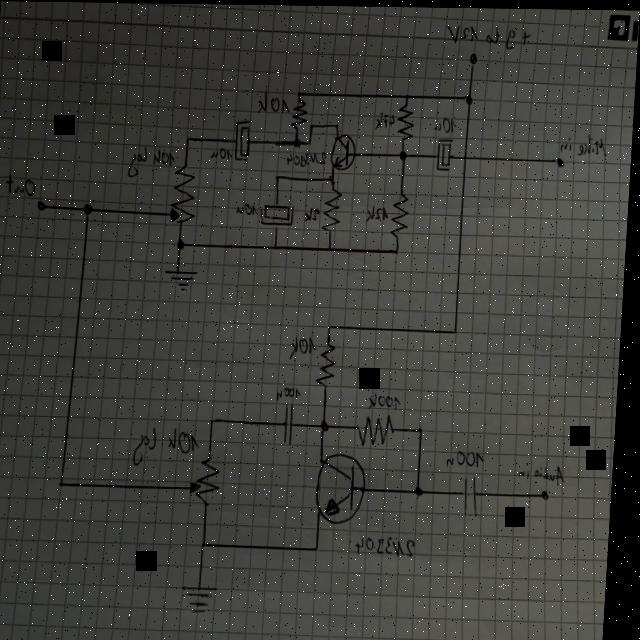capacitor: (234, 117, 257, 161), (464, 473, 486, 515), (261, 200, 296, 226), (285, 400, 301, 444), (436, 135, 456, 169)
crossover: (463, 149, 471, 160)
ground: (185, 580, 226, 613), (167, 267, 202, 289)
junction: (324, 416, 335, 431), (85, 201, 96, 214), (419, 483, 430, 495), (204, 536, 215, 548), (399, 146, 409, 158), (179, 236, 188, 249), (465, 91, 474, 104), (294, 136, 304, 146), (62, 477, 71, 487), (274, 239, 283, 249), (331, 171, 339, 182), (213, 414, 222, 423), (395, 243, 403, 253), (404, 88, 412, 98), (185, 133, 193, 142), (275, 171, 283, 180), (319, 543, 327, 552), (335, 119, 342, 129), (329, 242, 336, 251), (330, 321, 337, 329), (309, 120, 316, 128), (297, 87, 304, 95), (307, 137, 314, 145), (456, 325, 462, 334), (423, 423, 429, 431)
resistor: (169, 163, 201, 225), (193, 453, 227, 508), (361, 410, 402, 445), (319, 338, 341, 388), (323, 186, 345, 232), (392, 189, 413, 236), (397, 100, 417, 139), (291, 96, 310, 128)
terminal: (38, 199, 50, 211), (469, 49, 479, 63), (546, 486, 556, 498), (557, 153, 567, 165)
text: (136, 423, 206, 466), (444, 21, 532, 49), (128, 143, 178, 178), (361, 533, 423, 556), (522, 458, 573, 483), (560, 130, 610, 155), (256, 86, 292, 114), (287, 147, 329, 165), (292, 333, 321, 359), (451, 448, 490, 466), (371, 389, 407, 408), (8, 174, 38, 195), (366, 202, 391, 220), (279, 383, 306, 399), (375, 109, 398, 127), (434, 114, 458, 131), (237, 200, 261, 214), (305, 204, 324, 220), (211, 145, 234, 158)
transistor: (319, 448, 373, 521), (330, 130, 359, 167)
